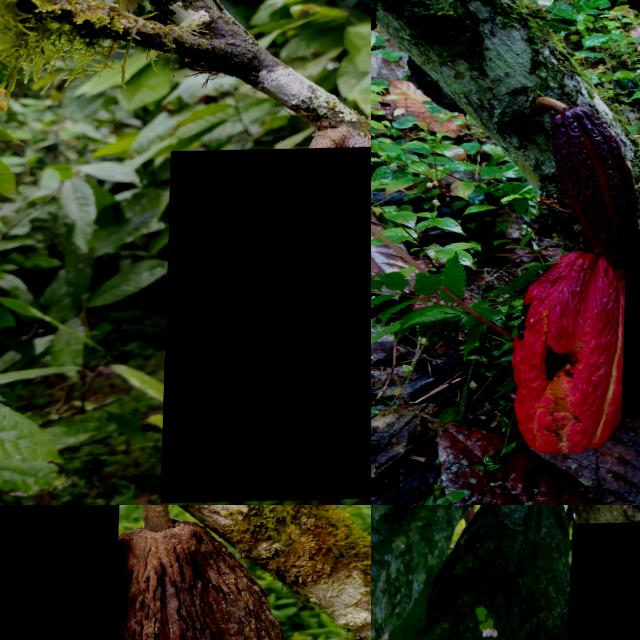Fitoftora: (164, 148, 371, 503), (511, 249, 640, 458), (83, 518, 294, 640), (0, 505, 121, 640)
Monilia: (564, 523, 640, 640)
Sana: (546, 107, 640, 266)
